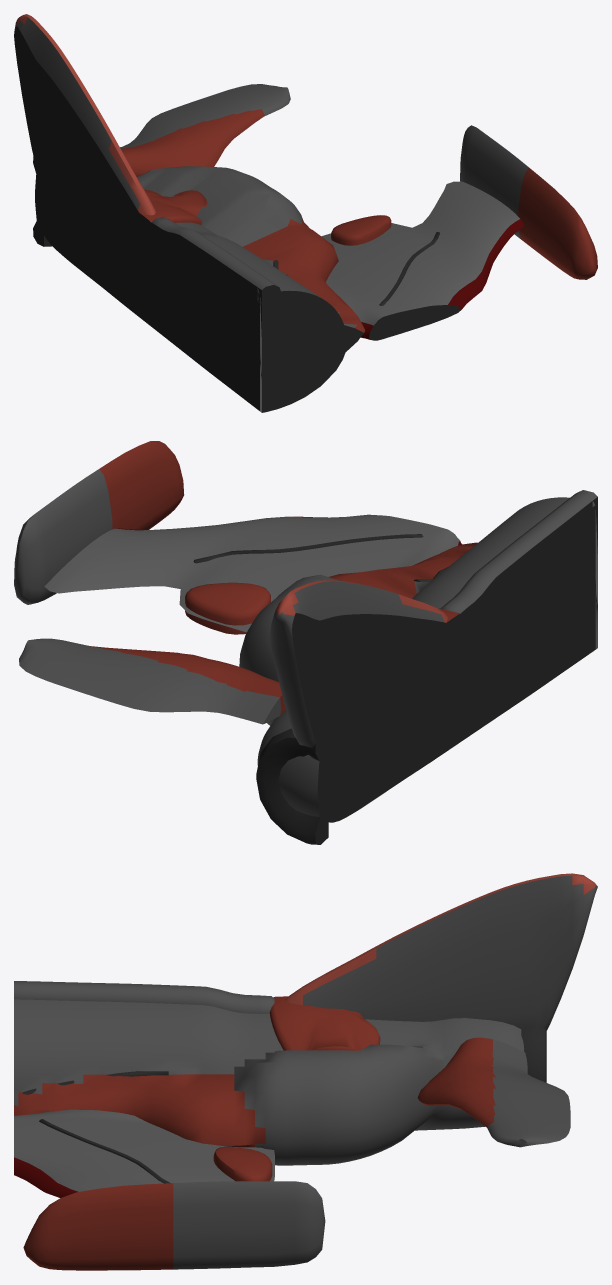
File: redjet_right.glb
3 views of the same model, one above another, from view 1: azimuth 30°, elevation 25°; view 2: azimuth 150°, elevation 25°; view 3: azimuth 270°, elevation 25° (orthographic). The views are drawn at different scales.
Parts seen in each view (by area): view 1: hull.001, wing_r.001, fin.001, tip_fin_r.001, tail_r.001, spine.001, shield.001, flap_r.001; view 2: hull.001, wing_r.001, fin.001, tail_r.001, tip_fin_r.001, spine.001, nozzle.001, flap_r.001, panel_r.001, shield.001; view 3: hull.001, fin.001, tip_fin_r.001, wing_r.001, tail_r.001, spine.001, shield.001, flap_r.001, nozzle.001, panel_r.001.
Part boxes in pixels (bbox=[...]): hull.001: bbox=[35, 160, 364, 412]; wing_r.001: bbox=[321, 181, 524, 340]; fin.001: bbox=[14, 14, 155, 252]; tip_fin_r.001: bbox=[460, 125, 597, 279]; tail_r.001: bbox=[120, 84, 290, 176]; spine.001: bbox=[151, 217, 281, 304]; shield.001: bbox=[113, 189, 207, 238]; flap_r.001: bbox=[331, 215, 391, 245]; hull.001: bbox=[239, 497, 597, 822]; wing_r.001: bbox=[44, 514, 461, 632]; fin.001: bbox=[269, 580, 456, 758]; tail_r.001: bbox=[19, 638, 285, 724]; tip_fin_r.001: bbox=[14, 441, 184, 604]; spine.001: bbox=[440, 490, 597, 629]; nozzle.001: bbox=[256, 728, 328, 844]; flap_r.001: bbox=[185, 582, 270, 634]; panel_r.001: bbox=[193, 534, 423, 563]; shield.001: bbox=[414, 608, 462, 669]; hull.001: bbox=[14, 999, 527, 1165]; fin.001: bbox=[285, 873, 597, 1031]; tip_fin_r.001: bbox=[23, 1181, 325, 1270]; wing_r.001: bbox=[14, 1109, 274, 1197]; tail_r.001: bbox=[417, 1037, 570, 1147]; spine.001: bbox=[14, 981, 274, 1013]; shield.001: bbox=[269, 996, 380, 1050]; flap_r.001: bbox=[213, 1146, 272, 1181]; nozzle.001: bbox=[521, 1027, 546, 1082]; panel_r.001: bbox=[39, 1119, 170, 1183].
Bounding box in the file's own units: 22.22 × 13.41 × 27.85.
